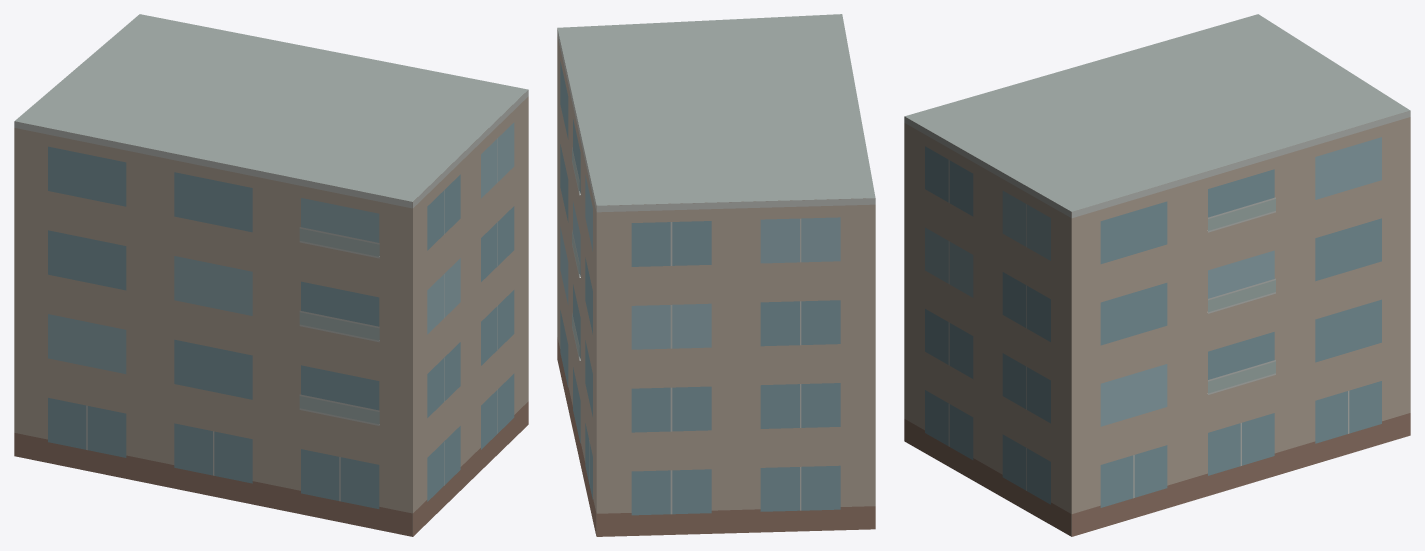
File: survey-upis-32630831.glb
3 renders of one model, left to right at view 1: azimuth 30°, elevation 25°; view 2: azimuth 150°, elevation 25°; view 3: azimuth 270°, elevation 25°, orthographic. The views are drawn at different scales.
Visible parts, largest first — view 1: survey-upis-32630831.tmp; view 2: survey-upis-32630831.tmp; view 3: survey-upis-32630831.tmp.
Boxes of the visible parts, x1,y1,x2,y2 form: survey-upis-32630831.tmp: (14,14,528,536); survey-upis-32630831.tmp: (557,14,875,536); survey-upis-32630831.tmp: (904,14,1410,536).
Size of the model in its own units: 16.14 by 12.35 by 17.44.
